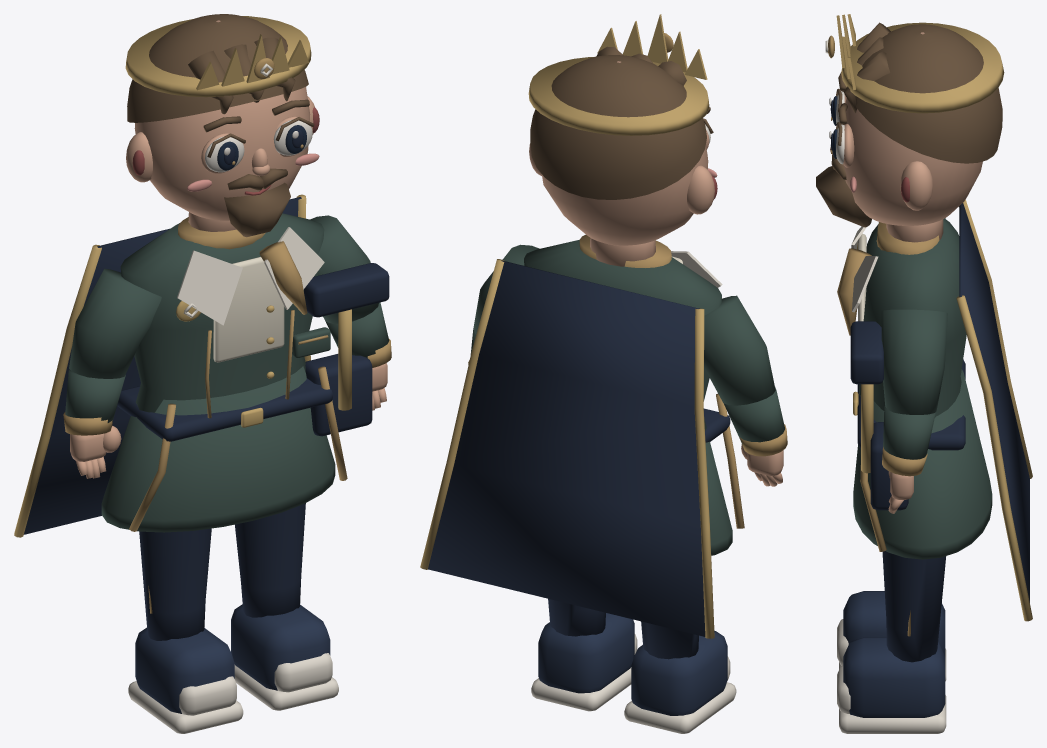
The model's file is npc_survivalridge_boss.glb.
The picture shows the model from 3 angles, left to right: view 1: azimuth 30°, elevation 25°; view 2: azimuth 150°, elevation 25°; view 3: azimuth 270°, elevation 25°; orthographic projection. The views are drawn at different scales.
Parts seen in each view (by area): view 1: figure.098; view 2: figure.098; view 3: figure.098.
Part boxes in pixels (x1,y1,x2,y2): figure.098: (14, 14, 391, 733); figure.098: (420, 14, 787, 733); figure.098: (816, 14, 1032, 733).
Bounding box in the file's own units: 0.9065 × 1.84 × 0.5303.
